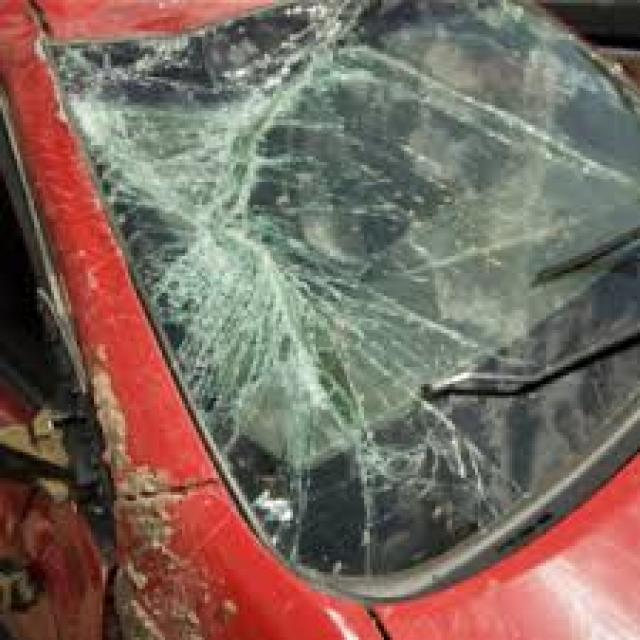damaged-windscreen: (37, 0, 637, 580)
